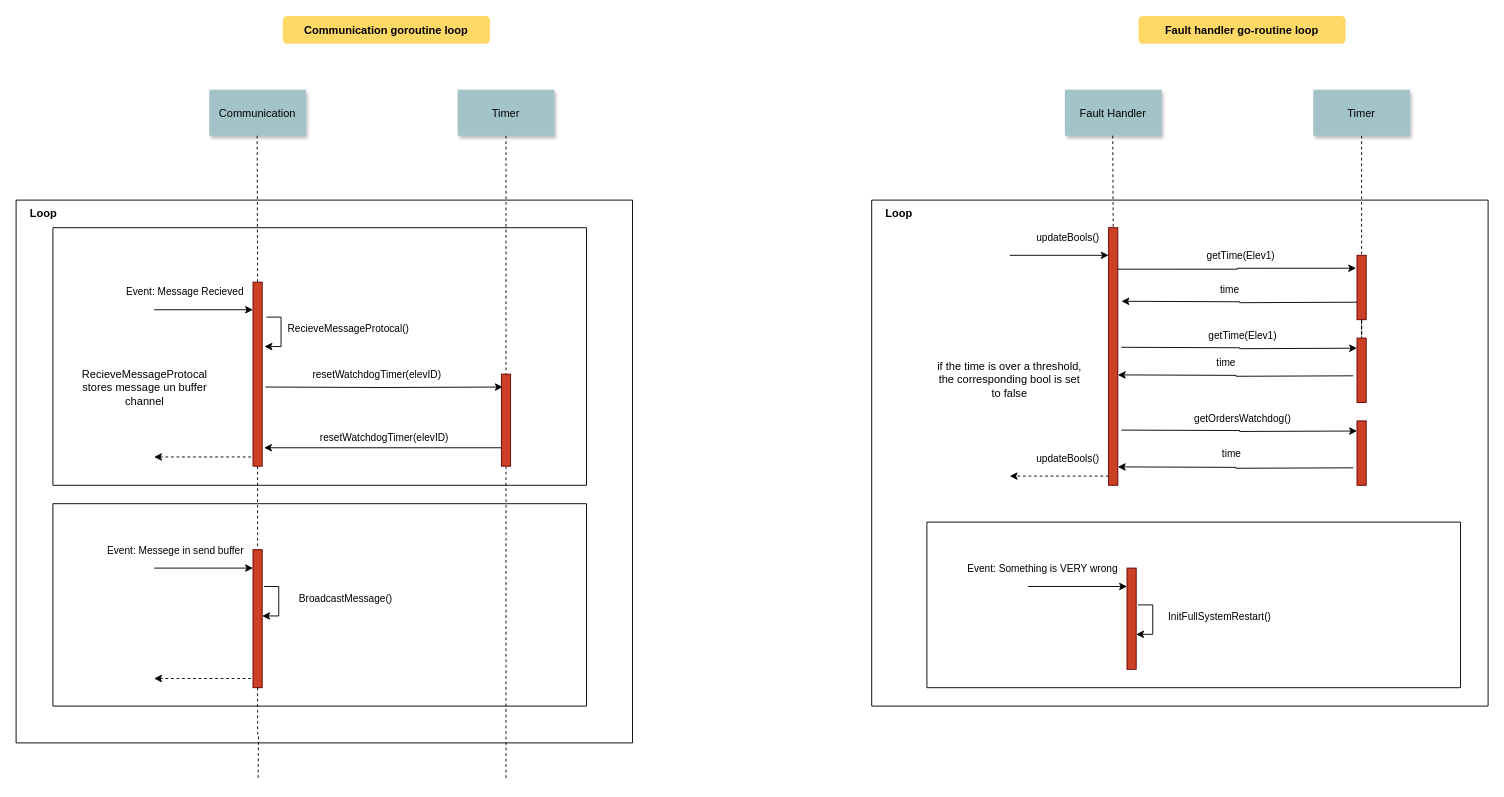
Image size: 1504x797. Some labels were removed from this diagram. Here are the shapes that lost their labels. From the top down, the centre of each, then its label:
At point (319, 356): "If: Message recieved".
At point (319, 604): "If: Message ready to send".
At point (1193, 604): "If: Any any unresolvable problems".
